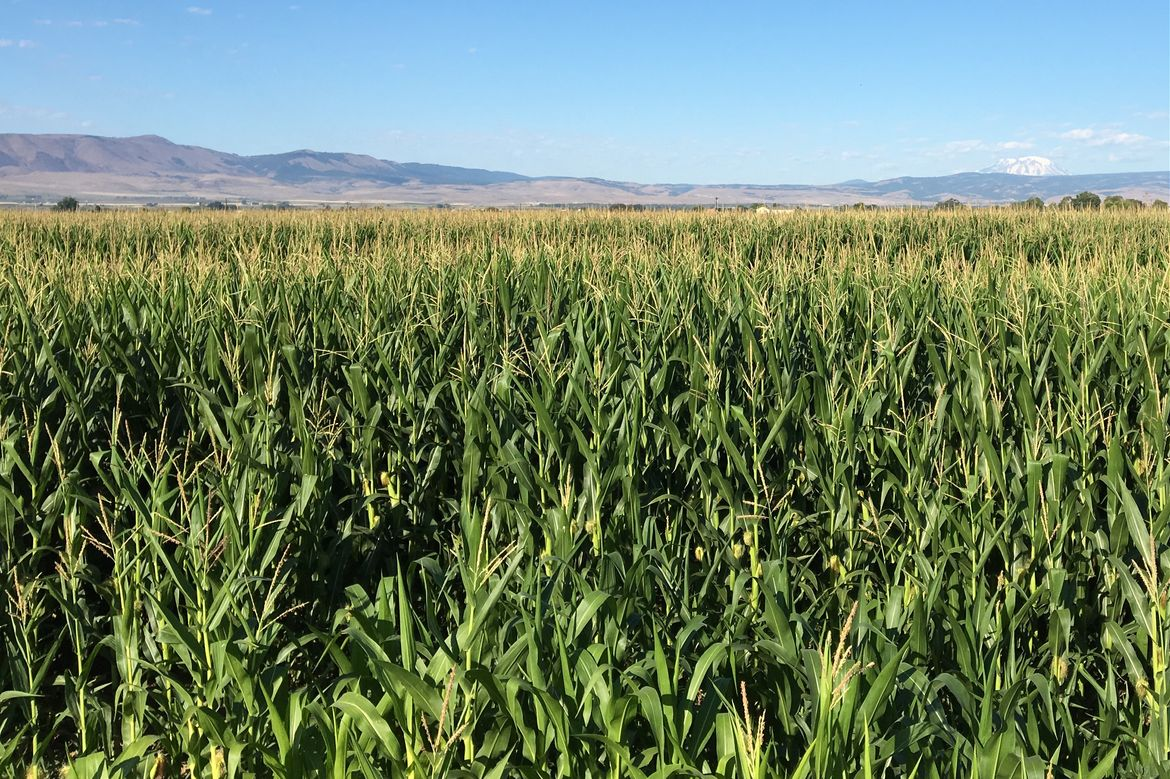grass: (5, 214, 1170, 779)
